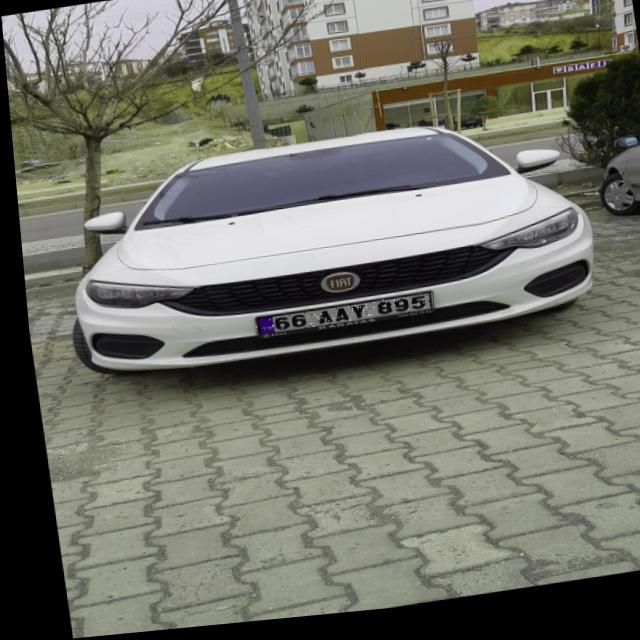license_plate: (246, 301, 427, 340)
